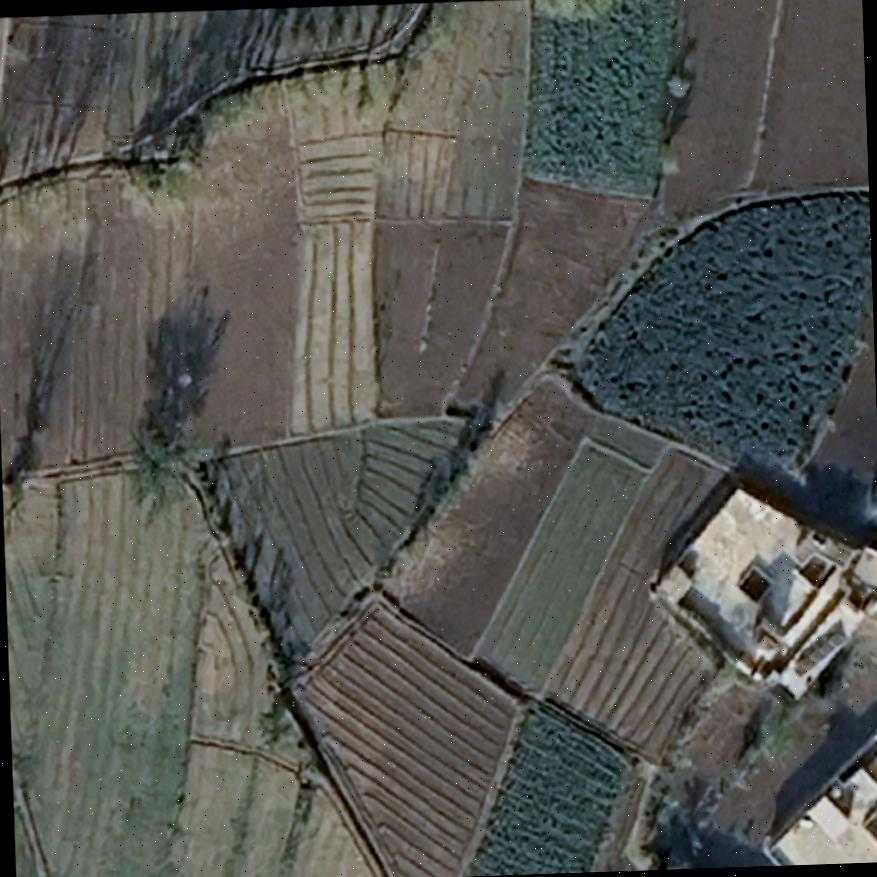Solarpanel: (790, 627, 847, 678)
